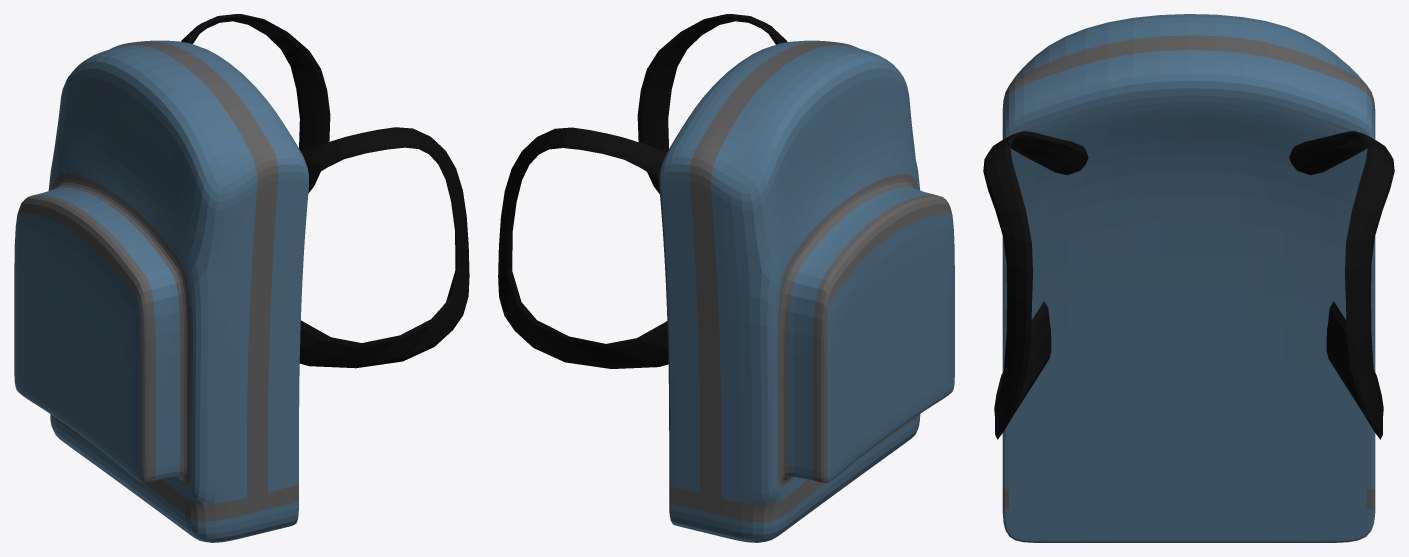
File: zaino.fbx
The picture shows the model from 3 angles, left to right: view 1: azimuth 30°, elevation 25°; view 2: azimuth 150°, elevation 25°; view 3: azimuth 270°, elevation 25°; orthographic projection. The views are drawn at different scales.
Visible parts, largest first — view 1: zaino, manici; view 2: zaino, manici; view 3: zaino, manici.
Part boxes in pixels (x1=…): zaino: x1=14, y1=40, x2=308, y2=542; manici: x1=181, y1=14, x2=469, y2=368; zaino: x1=659, y1=40, x2=954, y2=542; manici: x1=498, y1=14, x2=787, y2=368; zaino: x1=1002, y1=14, x2=1375, y2=542; manici: x1=983, y1=131, x2=1394, y2=439.
Size of the model in its own units: 54.31 by 67.55 by 51.47.
